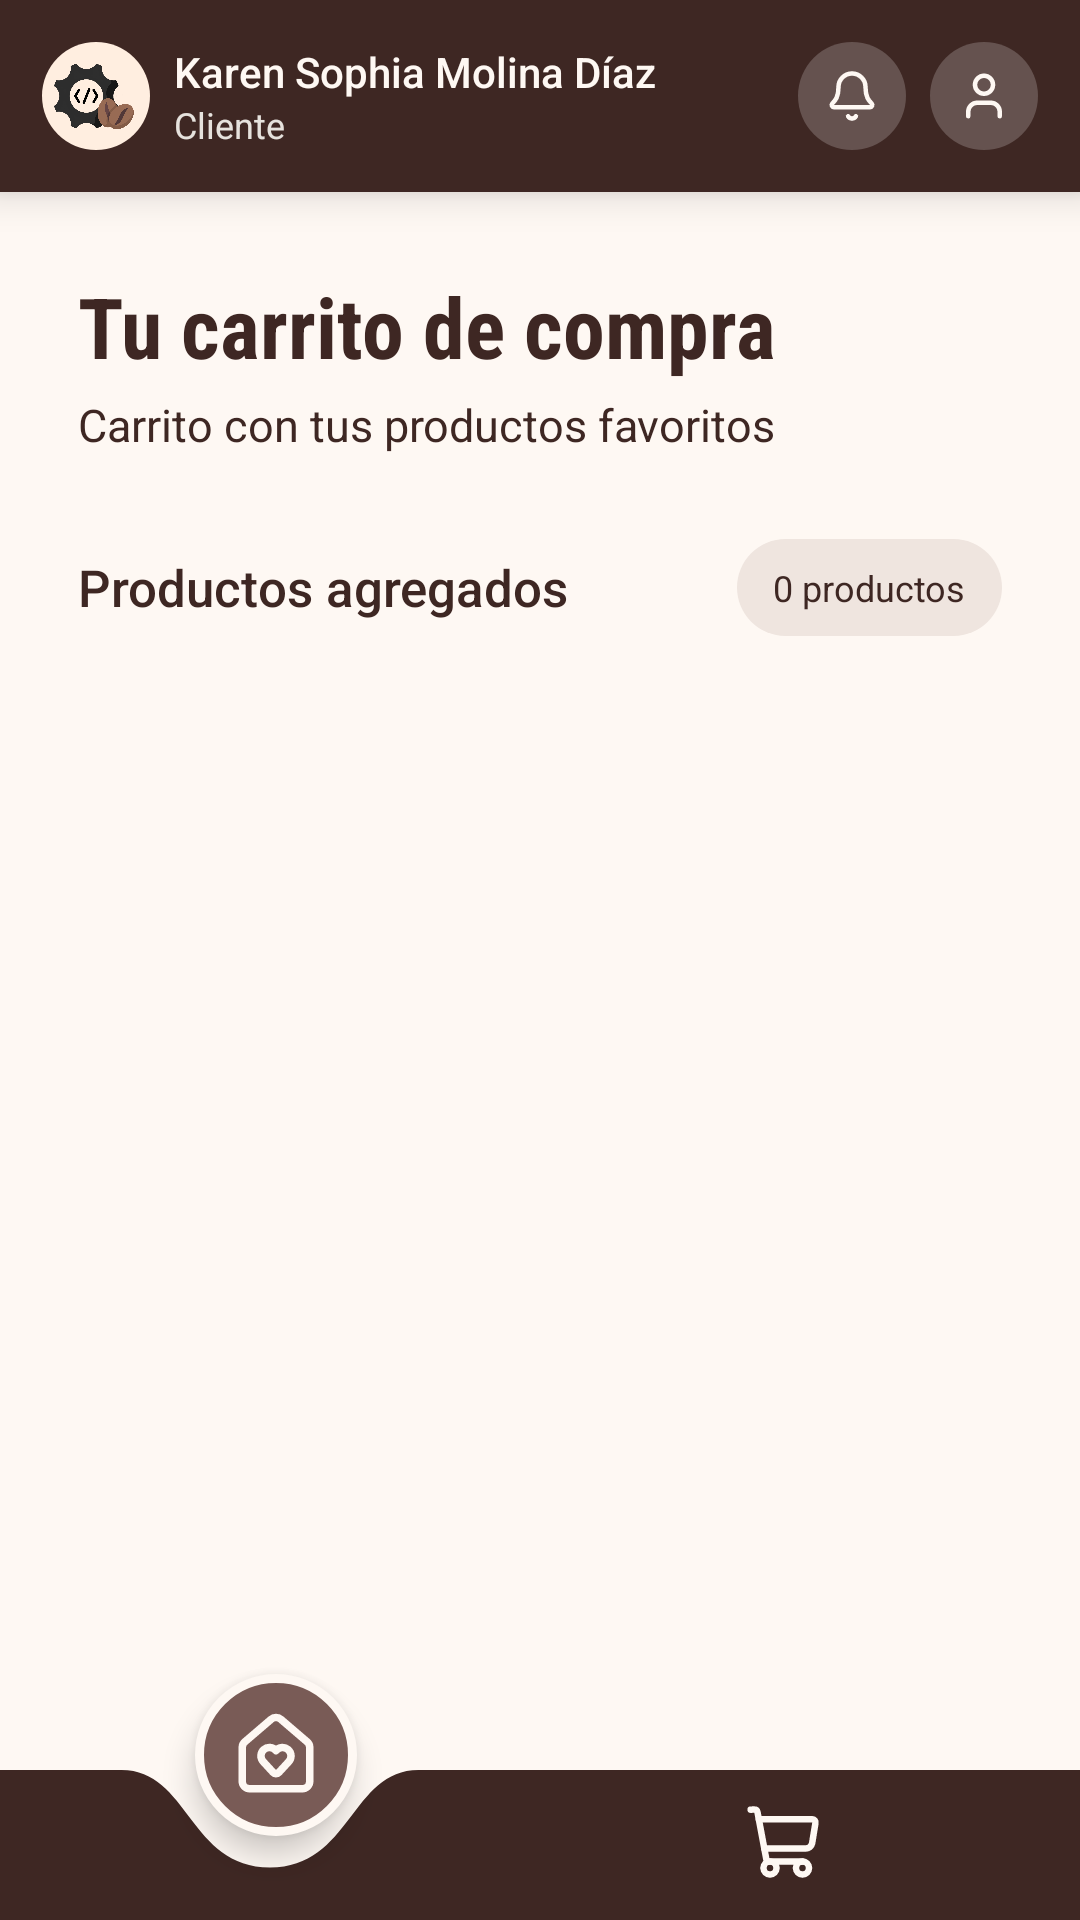

Icon click points for this 1080×1920 phone screenshot, format (x=x, y=y):
Abrir carrito: (x=783, y=1842)
Ir al inicio: (x=276, y=1755)
Mi perfil: (x=984, y=96)
Notificaciones: (x=852, y=96)
